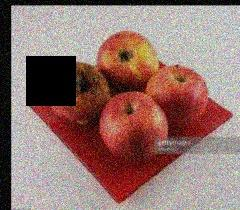red apple: (99, 88, 171, 162), (145, 61, 212, 130), (98, 30, 160, 88)
rotten apple: (49, 60, 109, 126)
